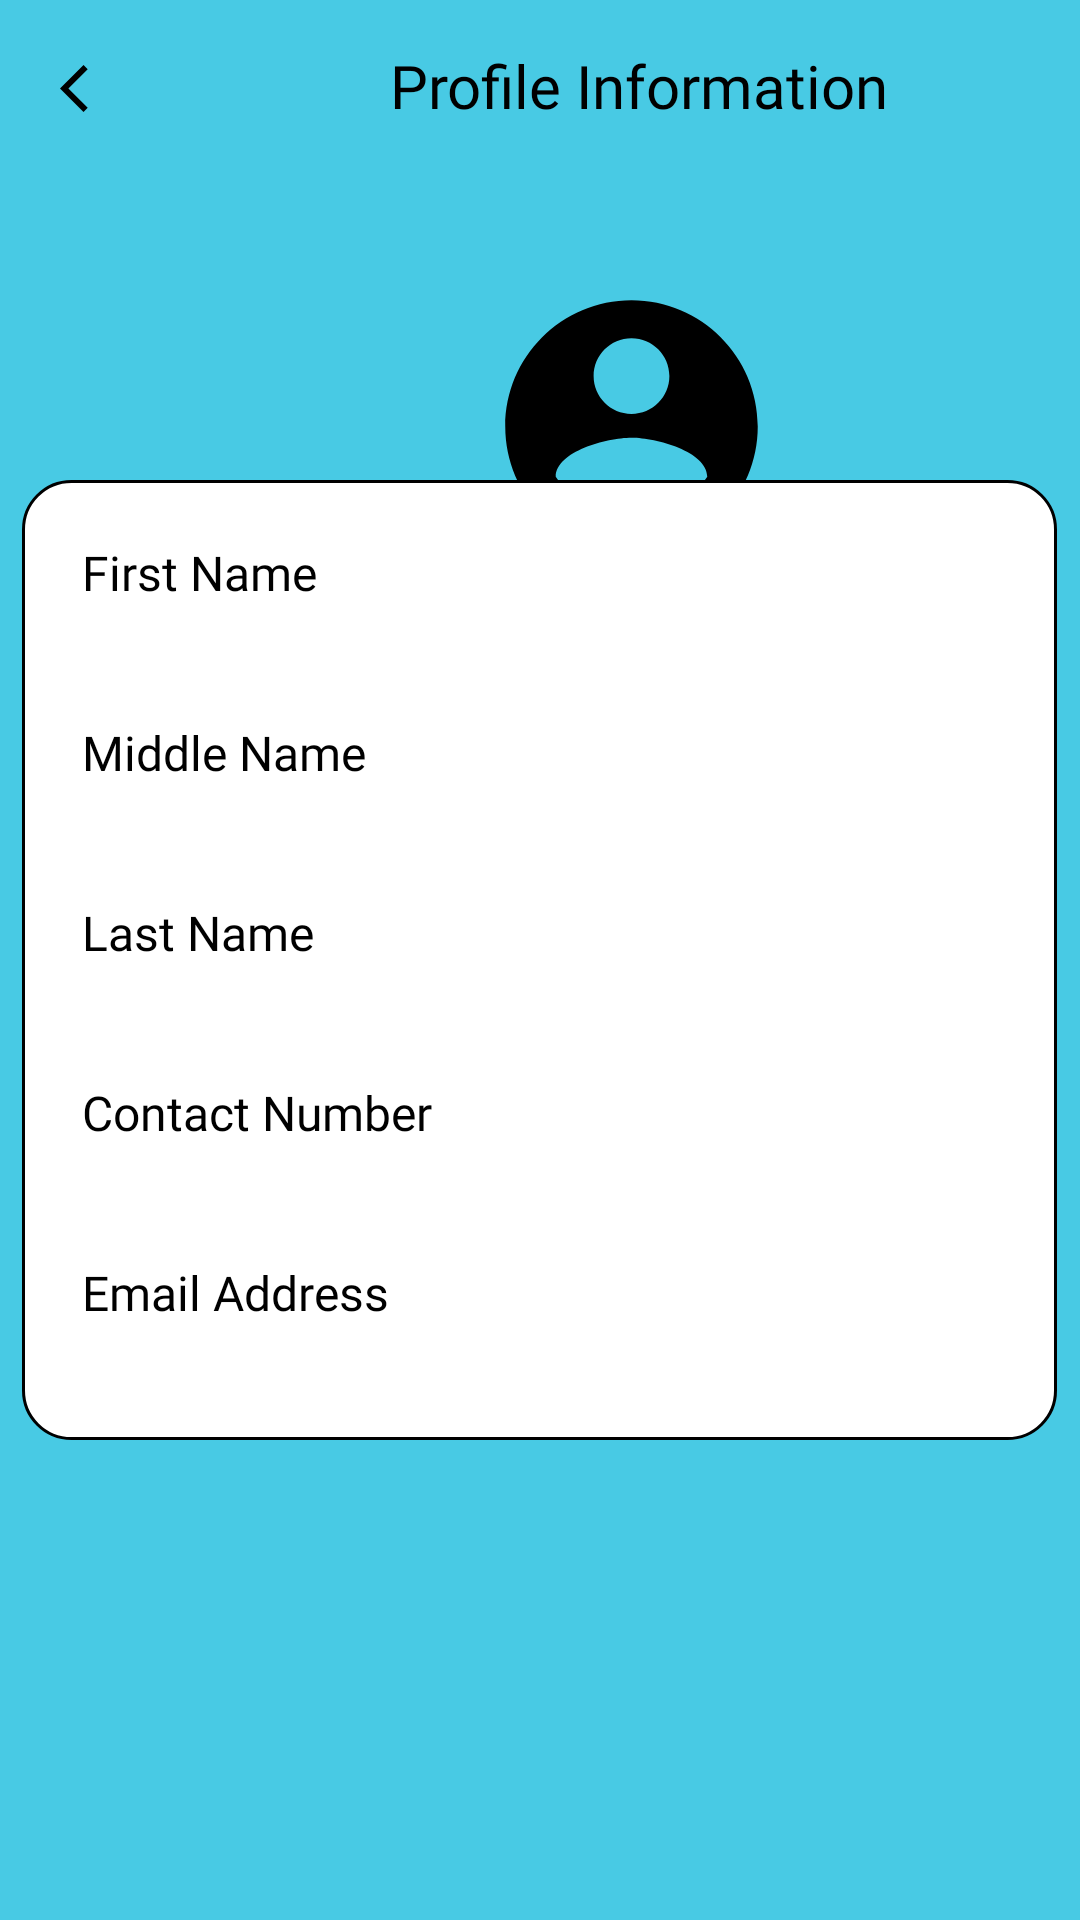

Icons on this 1080*1920 Android screen, each with its box as Rect(x1, y1, x2, y2):
Back: Rect(60, 65, 88, 112)
